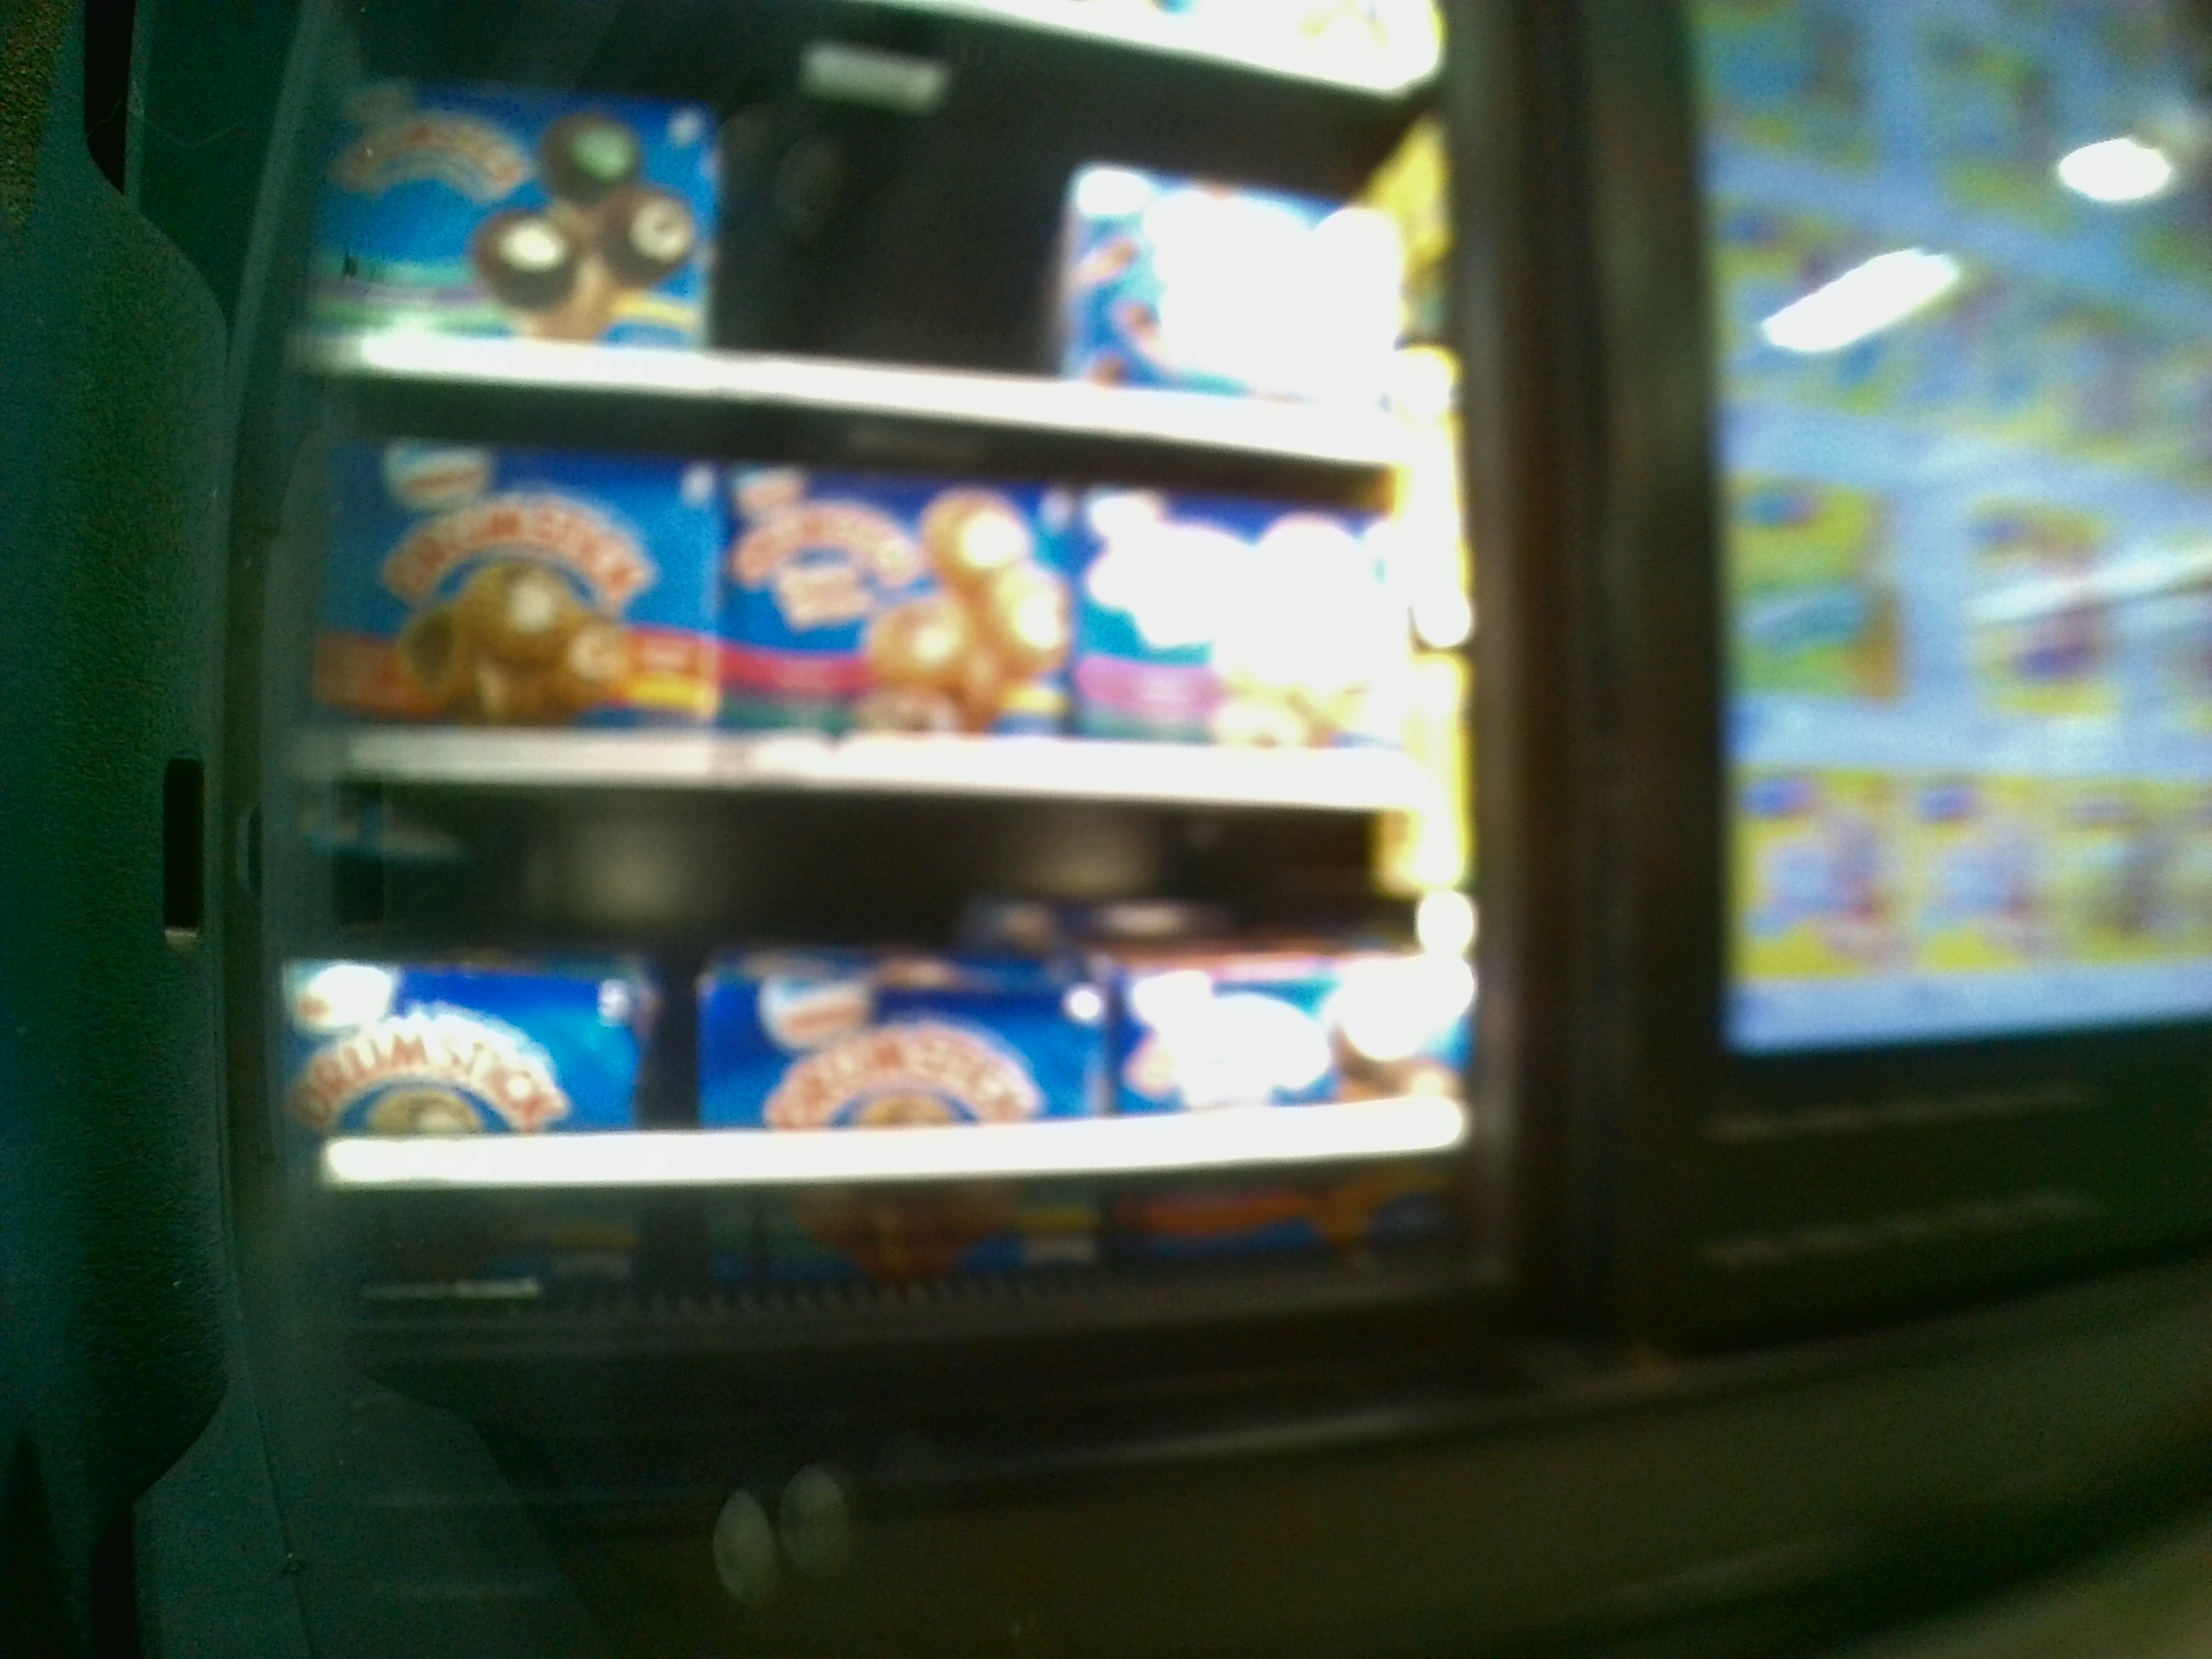shelf: (312, 805, 1479, 1284), (296, 410, 1467, 805)
